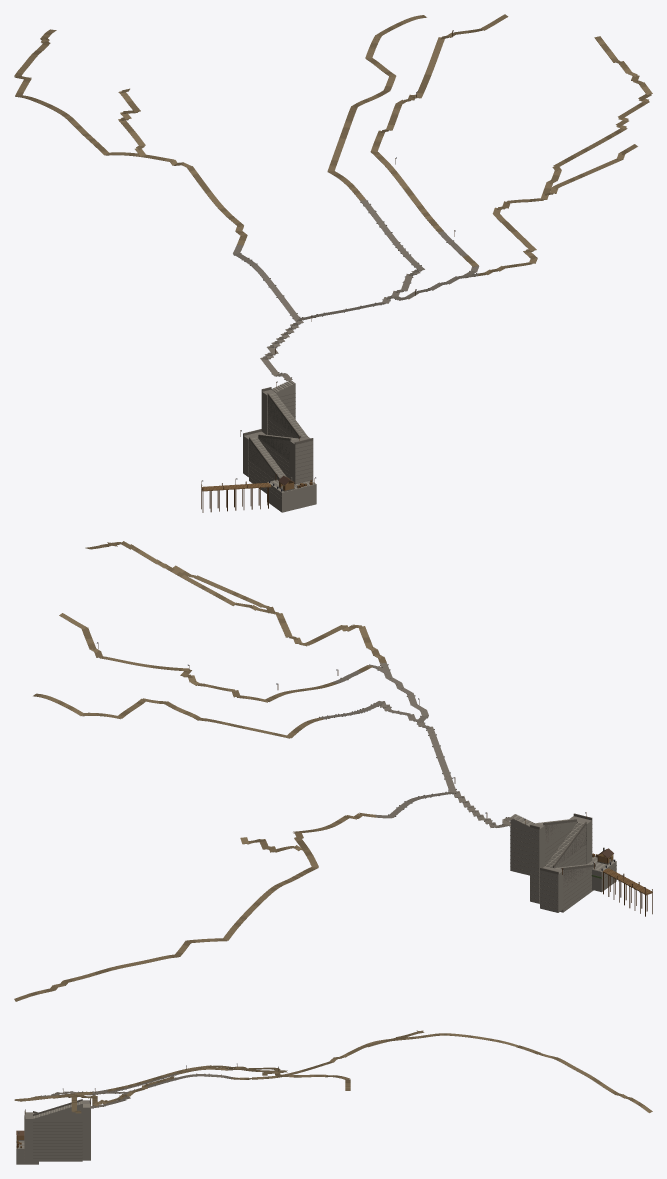
The model's file is coast_isl_saltglass_port.glb.
The picture shows the model from 3 angles, top to bottom: view 1: azimuth 30°, elevation 25°; view 2: azimuth 150°, elevation 25°; view 3: azimuth 270°, elevation 25°; orthographic projection. The views are drawn at different scales.
Visible parts, largest first — view 1: geometry_0; view 2: geometry_0; view 3: geometry_0.
Part boxes in pixels (x1=…): geometry_0: x1=14, y1=14, x2=652, y2=512; geometry_0: x1=14, y1=541, x2=652, y2=1001; geometry_0: x1=14, y1=1030, x2=652, y2=1164.
Bounding box in the file's own units: 210 × 124 × 308.
